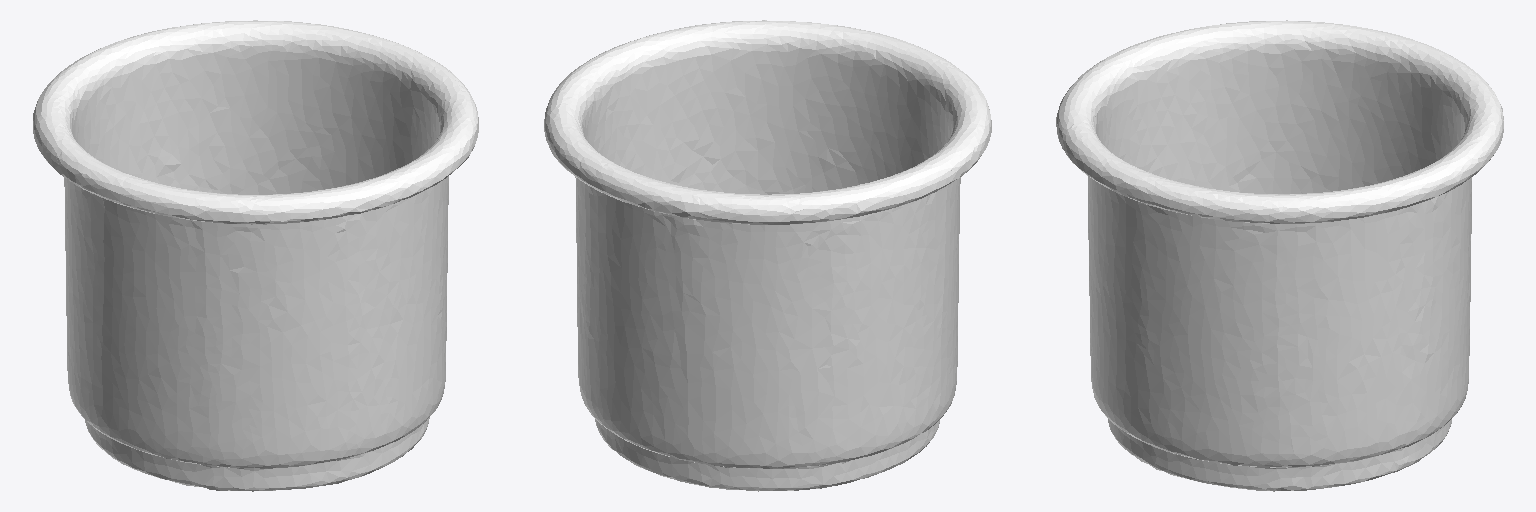
The robot description file, URDF, robot "i_cups":
<robot name="i_cups">
    <link name="base_link">
        <visual>
            <origin xyz="0.0 -0.0 -0.0" rpy="0.0 0.0 0.0" />
            <geometry>
                <mesh filename="i_cups/textured.obj" scale="1 1 1" />
            </geometry>
            <material name="texture">
                <color rgba="1.0 1.0 1.0 1.0" />
            </material>
        </visual>
        <collision>
            <origin xyz="0.0 -0.0 -0.0" rpy="0.0 0.0 0.0" />
            <geometry>
                <mesh filename="i_cups/textured_coacd_0.stl" scale="1 1 1" />
            </geometry>
        </collision>
        <collision>
            <origin xyz="0.0 -0.0 -0.0" rpy="0.0 0.0 0.0" />
            <geometry>
                <mesh filename="i_cups/textured_coacd_1.stl" scale="1 1 1" />
            </geometry>
        </collision>
        <collision>
            <origin xyz="0.0 -0.0 -0.0" rpy="0.0 0.0 0.0" />
            <geometry>
                <mesh filename="i_cups/textured_coacd_2.stl" scale="1 1 1" />
            </geometry>
        </collision>
        <collision>
            <origin xyz="0.0 -0.0 -0.0" rpy="0.0 0.0 0.0" />
            <geometry>
                <mesh filename="i_cups/textured_coacd_3.stl" scale="1 1 1" />
            </geometry>
        </collision>
        <collision>
            <origin xyz="0.0 -0.0 -0.0" rpy="0.0 0.0 0.0" />
            <geometry>
                <mesh filename="i_cups/textured_coacd_4.stl" scale="1 1 1" />
            </geometry>
        </collision>
        <inertial>
            <mass value="0.035" />
            <inertia ixx="1e-3" ixy="0.0" ixz="0.0" iyy="1e-3" iyz="0.0" izz="1e-3" />
        </inertial>
    </link>
</robot>

--- What the picture shows (computed from the rendered views, not written in the file) ---
The picture shows the robot from 3 angles, left to right: view 1: azimuth 30°, elevation 25°; view 2: azimuth 150°, elevation 25°; view 3: azimuth 270°, elevation 25°; orthographic projection.
Robot: i_cups — 1 links, 0 joints (none); root link base_link; default pose: all joints at 0.
Visible links, largest first — view 1: base_link; view 2: base_link; view 3: base_link.
Link boxes in pixels (x1,y1,x2,y2): base_link: [33, 20, 478, 491]; base_link: [544, 20, 991, 491]; base_link: [1056, 20, 1503, 491].
Bounding box of the posed robot: 0.0979 × 0.0982 × 0.0754 m (x, y, z).
Meshes: 1 distinct files referenced, 1 mesh visuals loaded (1 OBJ).